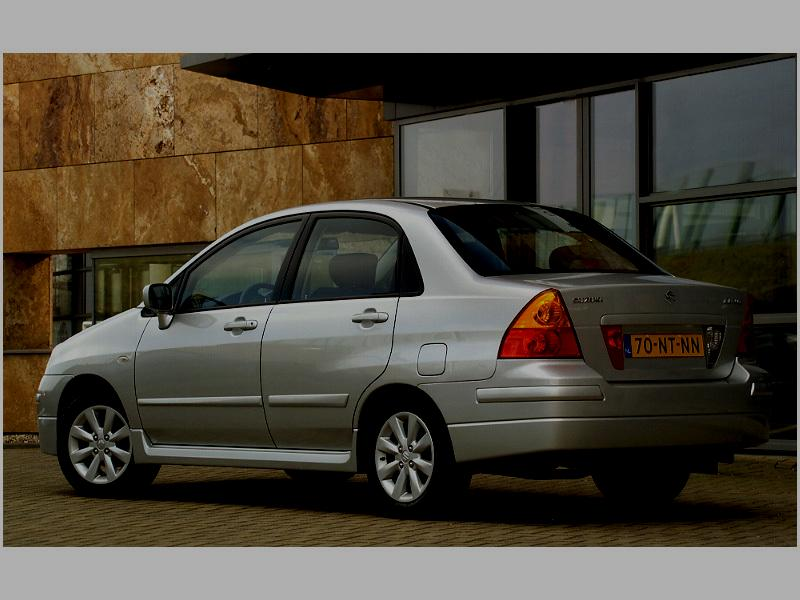suzuki: (658, 288, 683, 308)
